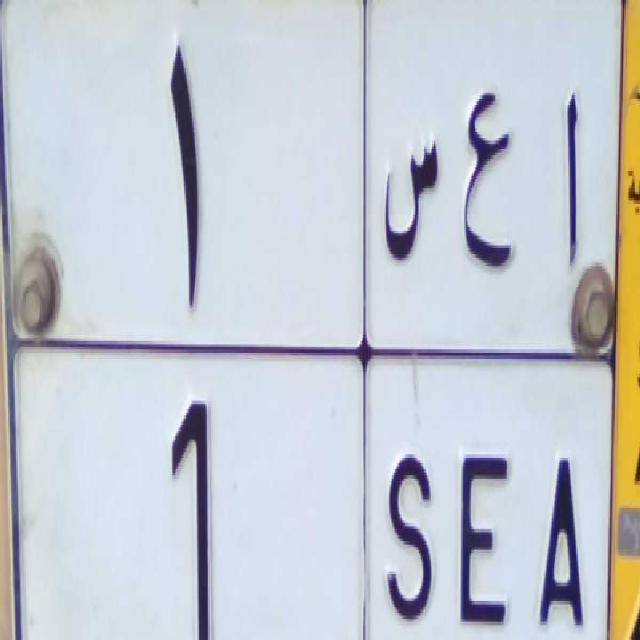license_plate: (12, 338, 606, 640)
